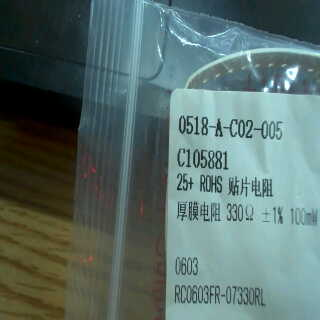330R: (221, 202, 259, 222)
